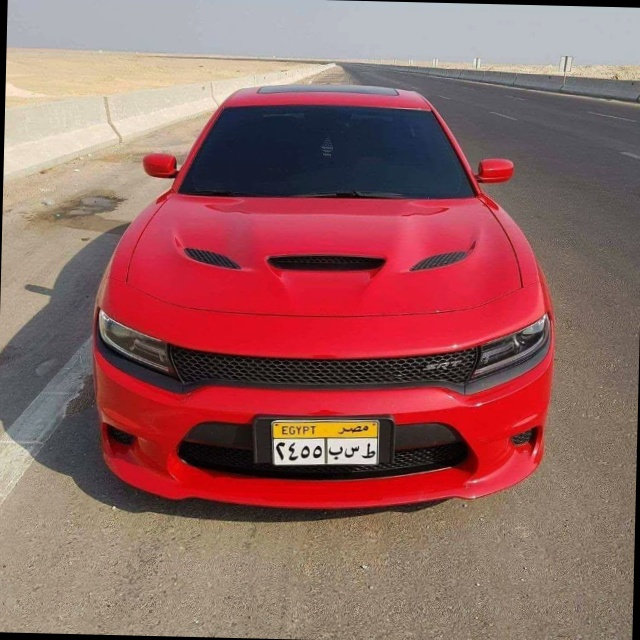License Plate: (268, 415, 382, 471)
